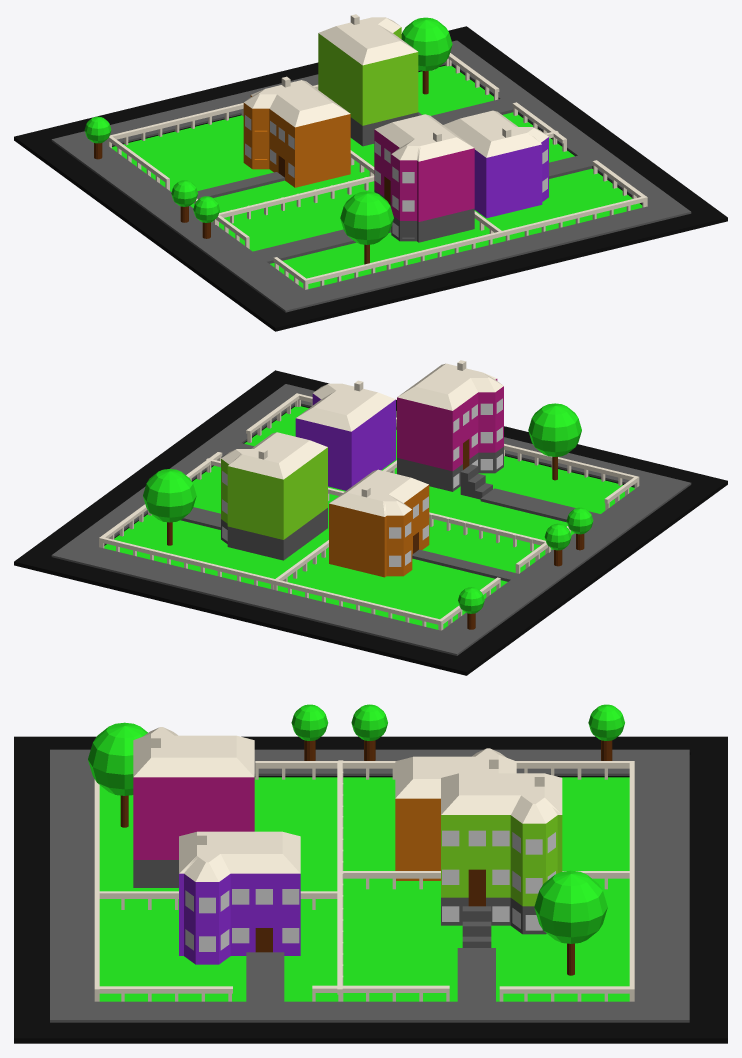
Rendered from smallerhouses.FBX.
The picture shows the model from 3 angles, top to bottom: view 1: azimuth 30°, elevation 25°; view 2: azimuth 150°, elevation 25°; view 3: azimuth 270°, elevation 25°; orthographic projection. The views are drawn at different scales.
Parts seen in each view (by area): view 1: Layer:greenery, Layer:bldgconcrete, Layer:street, Layer:0, Layer:bluegouse, Layer:rowhouse3, Layer:rowhouse1, Layer:rowhouse2, Layer:windows, Layer:wood; view 2: Layer:greenery, Layer:bldgconcrete, Layer:street, Layer:0, Layer:bluegouse, Layer:rowhouse1, Layer:rowhouse3, Layer:rowhouse2, Layer:windows, Layer:wood; view 3: Layer:greenery, Layer:bldgconcrete, Layer:street, Layer:0, Layer:rowhouse1, Layer:rowhouse2, Layer:bluegouse, Layer:windows, Layer:rowhouse3, Layer:wood.
Boxes of the visible parts, x1=… form: Layer:greenery: x1=84, y1=17, x2=642, y2=288; Layer:bldgconcrete: x1=51, y1=40, x2=691, y2=312; Layer:street: x1=14, y1=26, x2=727, y2=331; Layer:0: x1=107, y1=14, x2=647, y2=289; Layer:bluegouse: x1=318, y1=27, x2=418, y2=125; Layer:rowhouse3: x1=243, y1=95, x2=350, y2=187; Layer:rowhouse1: x1=374, y1=129, x2=474, y2=221; Layer:rowhouse2: x1=474, y1=137, x2=548, y2=218; Layer:windows: x1=245, y1=115, x2=547, y2=237; Layer:wood: x1=94, y1=71, x2=428, y2=264; Layer:greenery: x1=104, y1=403, x2=634, y2=629; Layer:bldgconcrete: x1=51, y1=384, x2=691, y2=655; Layer:street: x1=14, y1=370, x2=727, y2=675; Layer:0: x1=99, y1=360, x2=639, y2=630; Layer:bluegouse: x1=221, y1=447, x2=327, y2=539; Layer:rowhouse1: x1=397, y1=379, x2=503, y2=471; Layer:rowhouse3: x1=329, y1=485, x2=429, y2=577; Layer:rowhouse2: x1=295, y1=393, x2=395, y2=490; Layer:windows: x1=222, y1=398, x2=502, y2=566; Layer:wood: x1=167, y1=439, x2=584, y2=629; Layer:greenery: x1=88, y1=704, x2=629, y2=1001; Layer:bldgconcrete: x1=50, y1=749, x2=689, y2=1022; Layer:street: x1=14, y1=736, x2=727, y2=1043; Layer:0: x1=94, y1=727, x2=634, y2=1001; Layer:rowhouse1: x1=133, y1=777, x2=254, y2=859; Layer:rowhouse2: x1=179, y1=873, x2=300, y2=964; Layer:bluegouse: x1=441, y1=815, x2=562, y2=906; Layer:windows: x1=185, y1=830, x2=555, y2=951; Layer:rowhouse3: x1=395, y1=798, x2=440, y2=880; Layer:wood: x1=120, y1=740, x2=612, y2=975.
Size of the model in its own units: 4000 by 914 by 4000.
